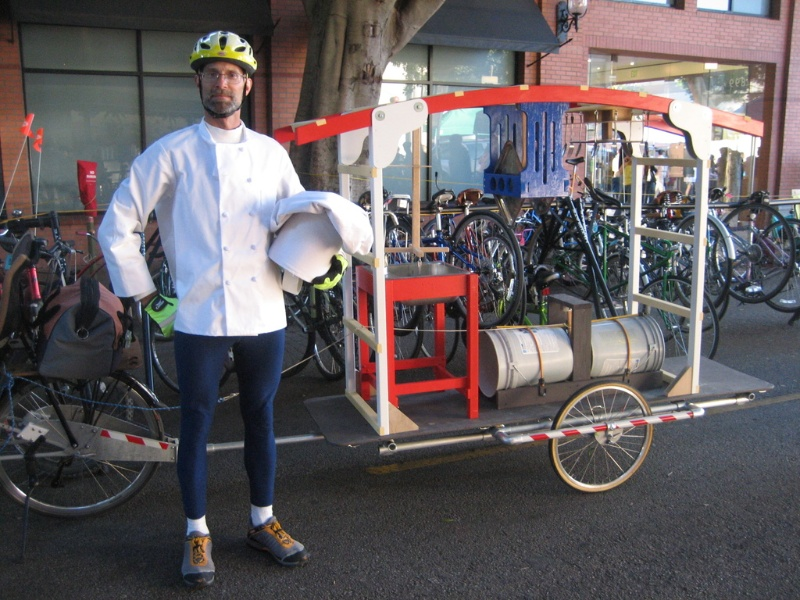helmet: (267, 216, 356, 286), (188, 28, 258, 73)
